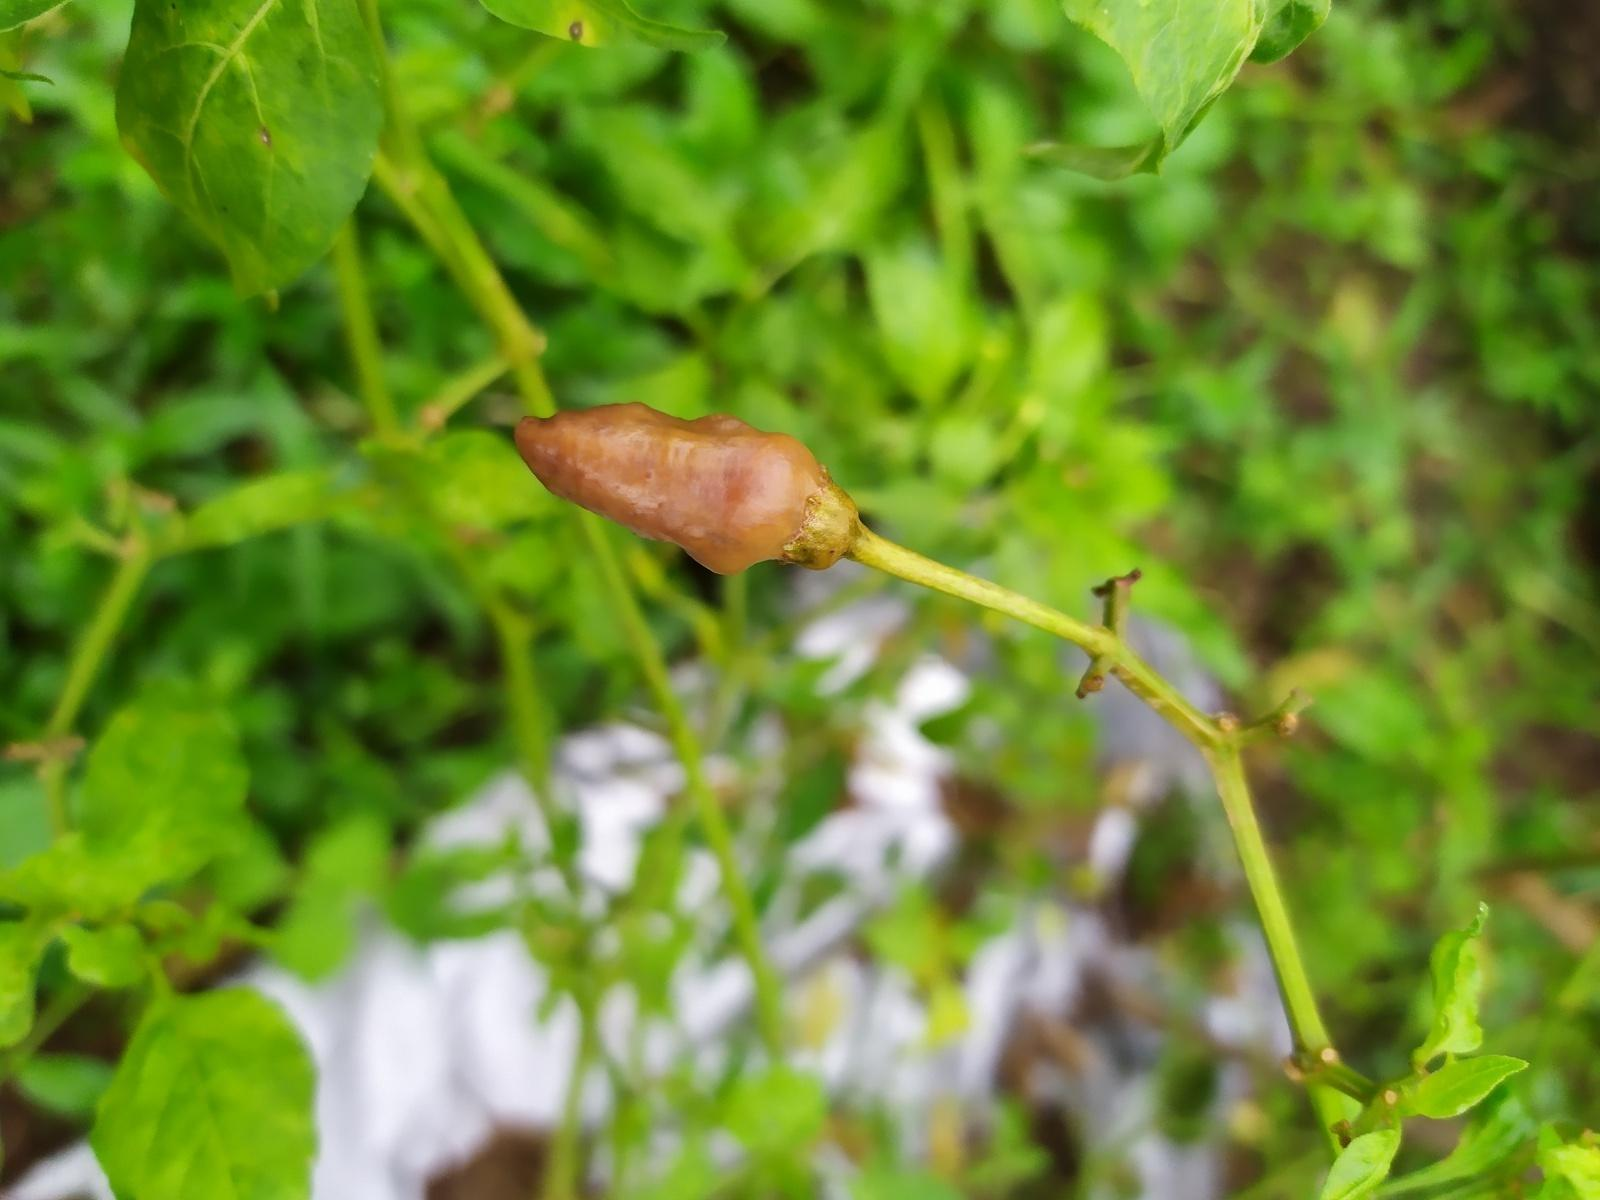lalat_buah: (513, 401, 825, 577)
